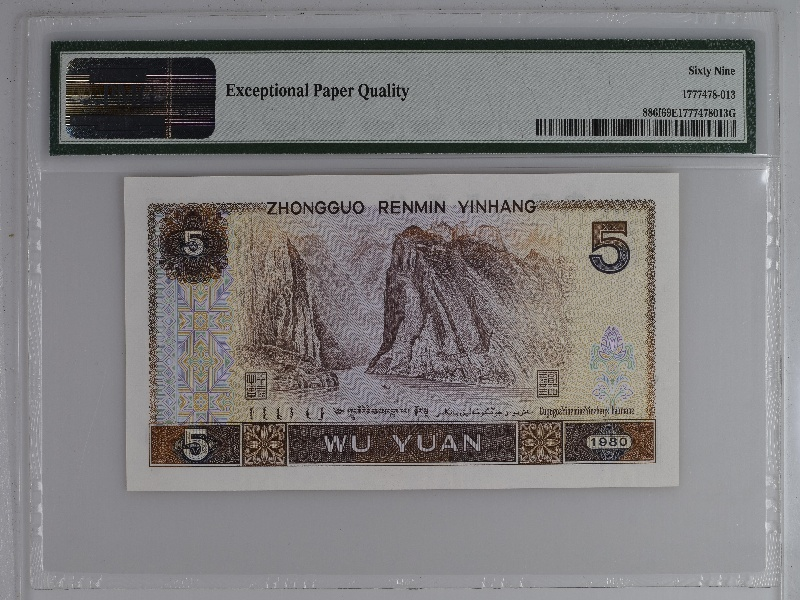papernote: (124, 171, 682, 494)
